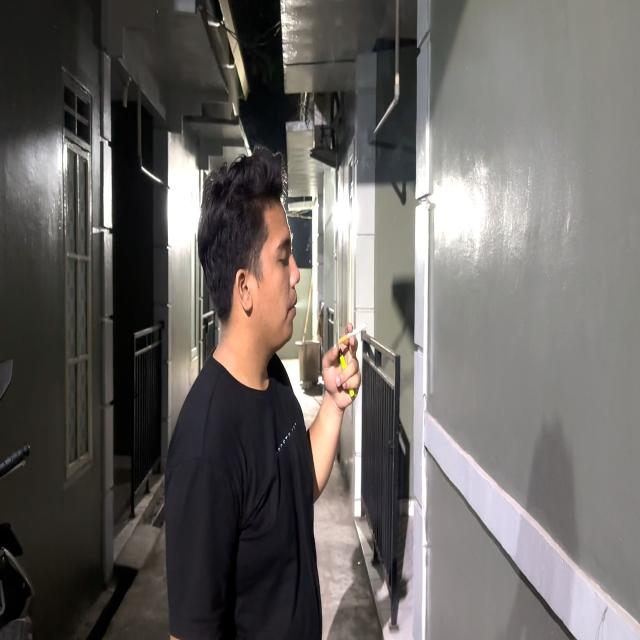cigarette: (336, 317, 371, 352)
smoking: (197, 148, 375, 510)
